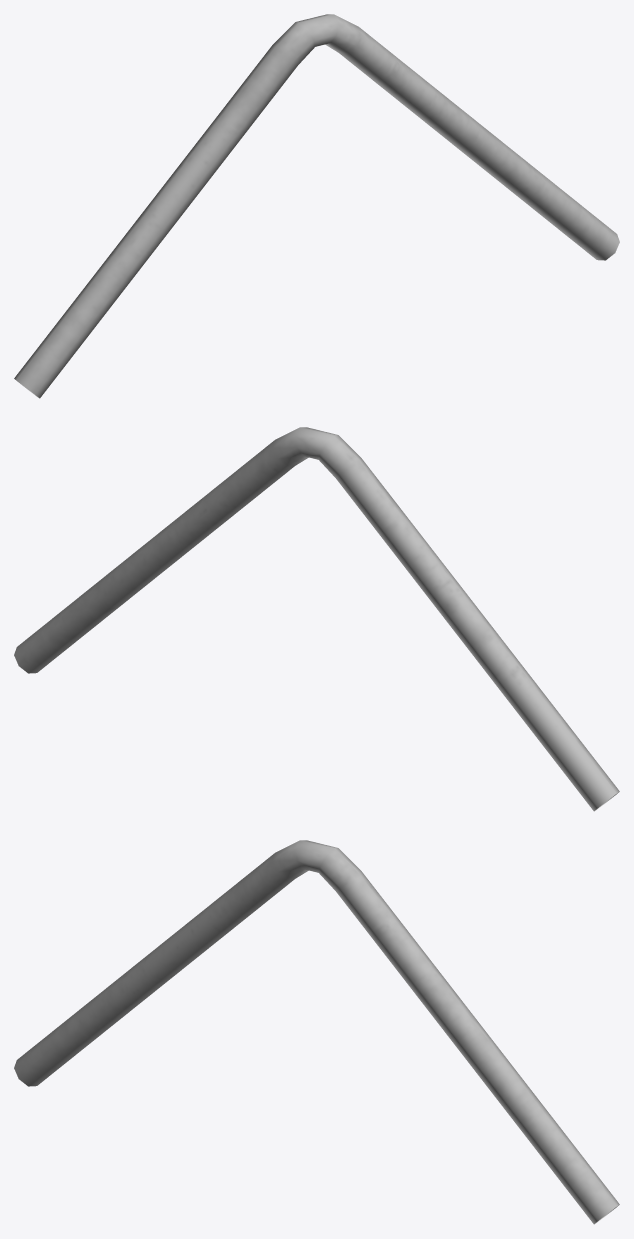
The model's file is SM_Fluorescent_Light_Base_Hook_01a.fbx.
3 views of the same model, one above another, from view 1: azimuth 30°, elevation 25°; view 2: azimuth 150°, elevation 25°; view 3: azimuth 330°, elevation 25° (orthographic).
Parts seen in each view (by area): view 1: SM_Fluorescent_Light_Base_Hook_01a_LOD0; view 2: SM_Fluorescent_Light_Base_Hook_01a_LOD0; view 3: SM_Fluorescent_Light_Base_Hook_01a_LOD0.
Part boxes in pixels (x1,y1,x2,y2): SM_Fluorescent_Light_Base_Hook_01a_LOD0: [14, 14, 619, 398]; SM_Fluorescent_Light_Base_Hook_01a_LOD0: [14, 427, 619, 811]; SM_Fluorescent_Light_Base_Hook_01a_LOD0: [14, 840, 619, 1224].
Size of the model in its own units: 9.37 by 0.4465 by 4.62.
Materials: 1 (1 with a texture image).
